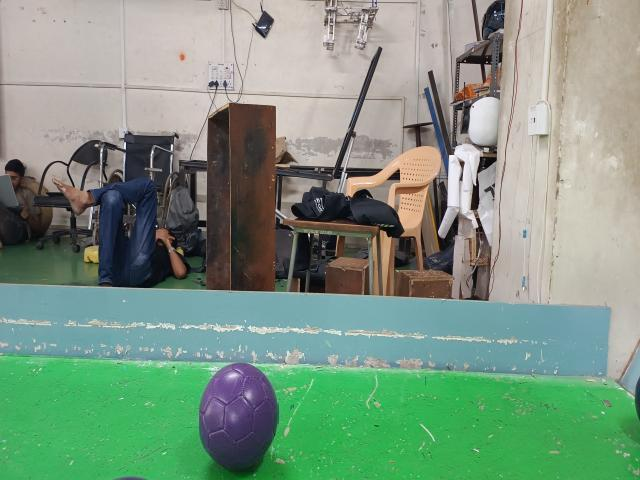jambhalya: (200, 364, 278, 470)
